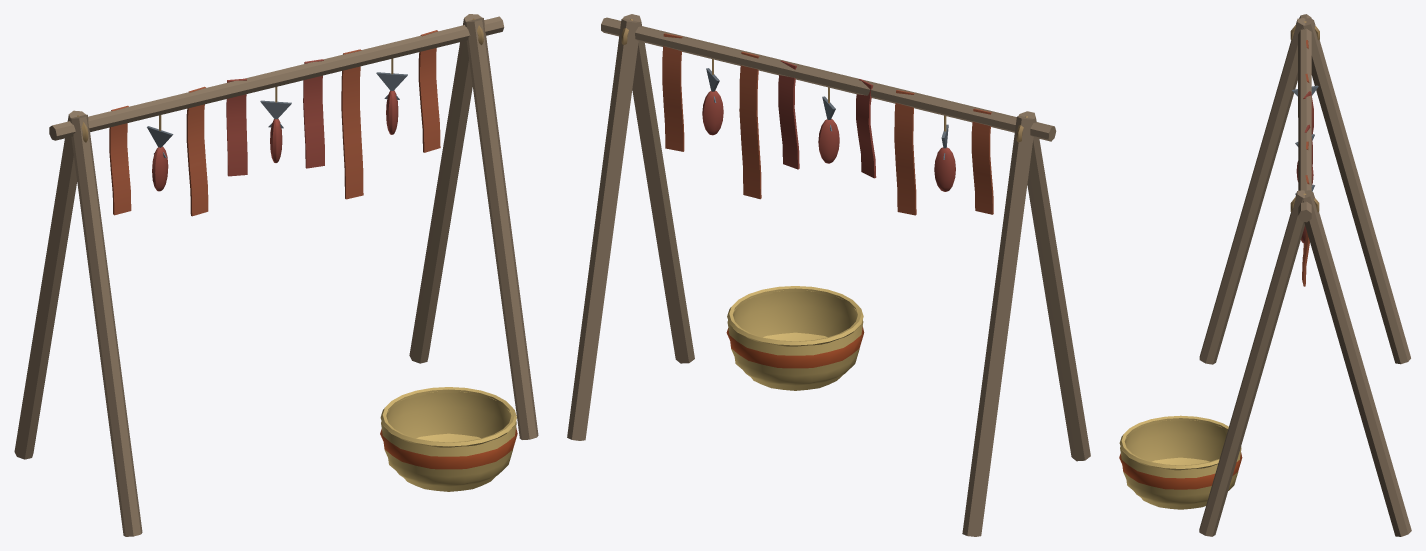
The model's file is deco_drying_rack_meat.fbx.
3 renders of one model, left to right at view 1: azimuth 30°, elevation 25°; view 2: azimuth 150°, elevation 25°; view 3: azimuth 270°, elevation 25°, orthographic. The views are drawn at different scales.
Visible parts, largest first — view 1: DryingRack_Meat_Frame, DryingRack_Meat_Hanging, DryingRack_Meat_Basket; view 2: DryingRack_Meat_Frame, DryingRack_Meat_Hanging, DryingRack_Meat_Basket; view 3: DryingRack_Meat_Frame, DryingRack_Meat_Basket, DryingRack_Meat_Hanging.
Boxes of the visible parts, left/top/right/bottom form: DryingRack_Meat_Frame: left=14, top=14, right=538, bottom=536; DryingRack_Meat_Hanging: left=109, top=30, right=440, bottom=216; DryingRack_Meat_Basket: left=380, top=387, right=517, bottom=491; DryingRack_Meat_Frame: left=567, top=14, right=1090, bottom=536; DryingRack_Meat_Hanging: left=662, top=33, right=993, bottom=215; DryingRack_Meat_Basket: left=726, top=286, right=864, bottom=390; DryingRack_Meat_Frame: left=1199, top=14, right=1411, bottom=536; DryingRack_Meat_Basket: left=1119, top=415, right=1242, bottom=509; DryingRack_Meat_Hanging: left=1292, top=40, right=1318, bottom=286.
Bounding box in the file's own units: 260 × 213 × 165.
